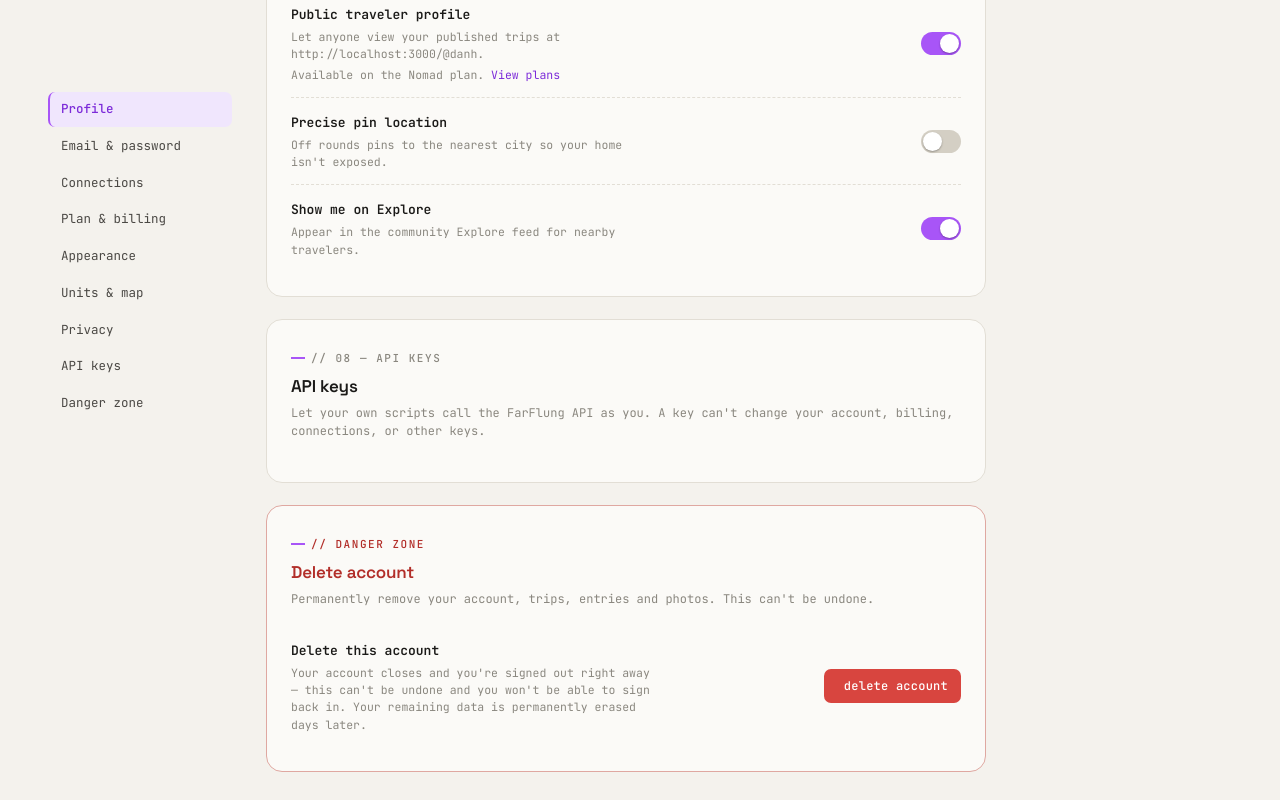
Scenario: Settings page (/settings) › uses singular wording for exactly one place and one trip
The width and height of the screenshot is (1280, 800).
(page scrolled)
Click the button "delete account" at (893, 686), box [824,669,961,703]
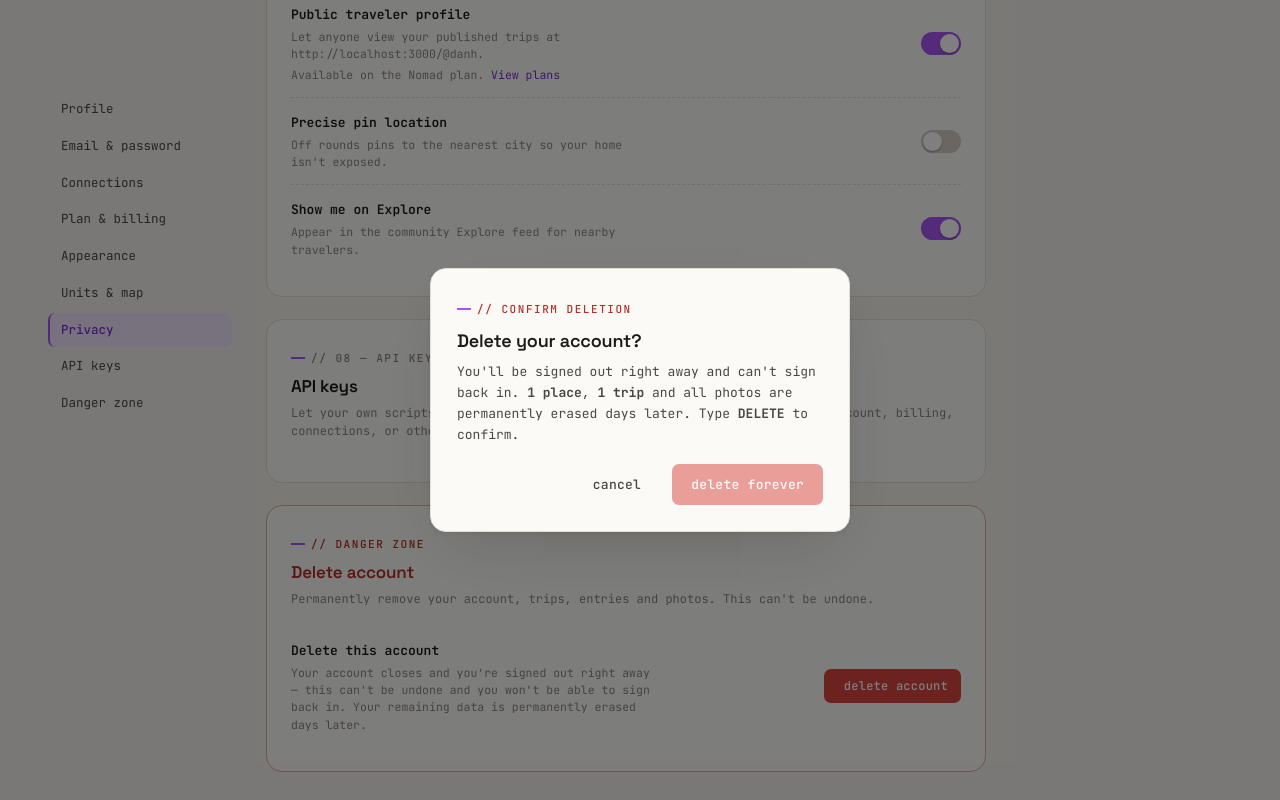
Expected: the element with class "modal" shows "1 place", [527,384,582,401]
Expected: the element with class "modal" shows "1 trip", [597,384,644,401]
